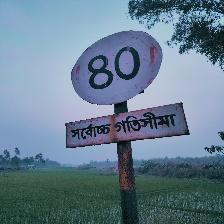Speed-limit: (66, 28, 185, 149)
